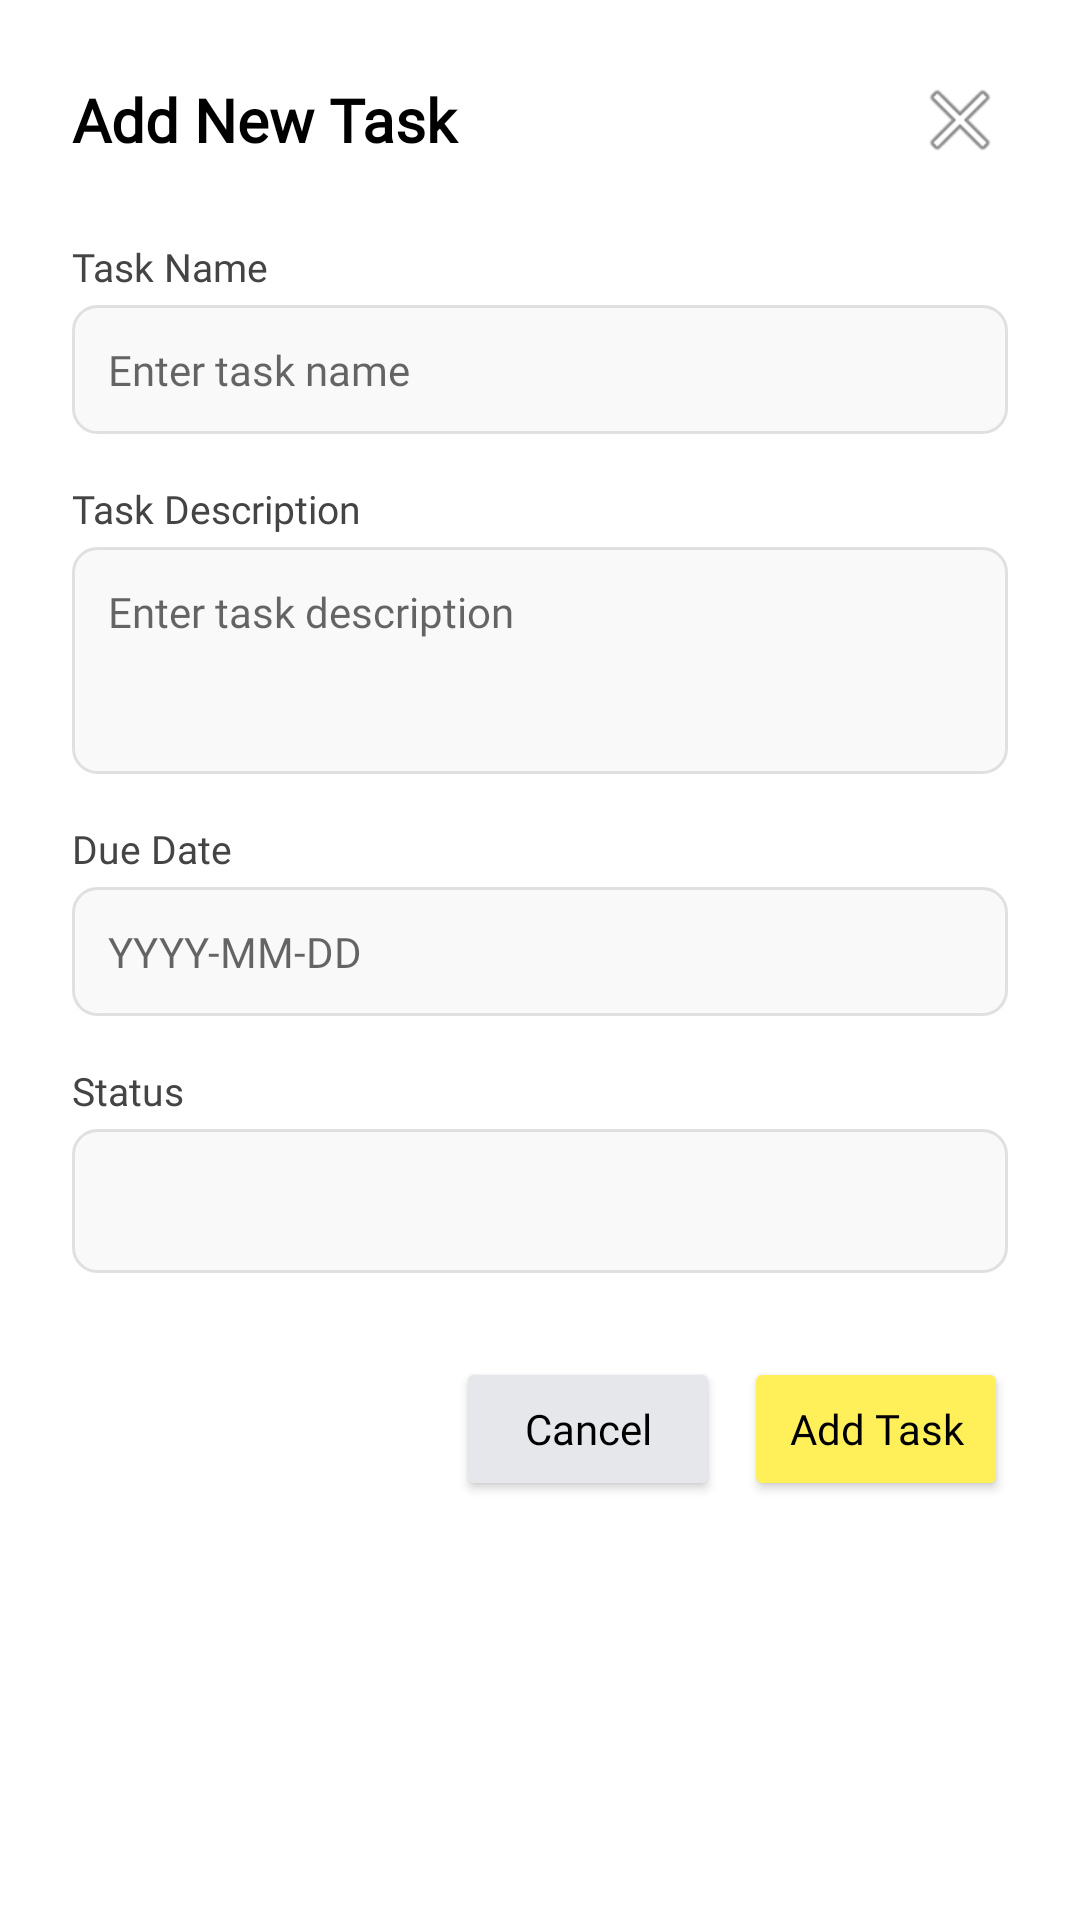

Where icons sit on this 1080px×1920px app screen, as (x1, y1, x2, y2):
Close: (930, 90, 990, 150)
